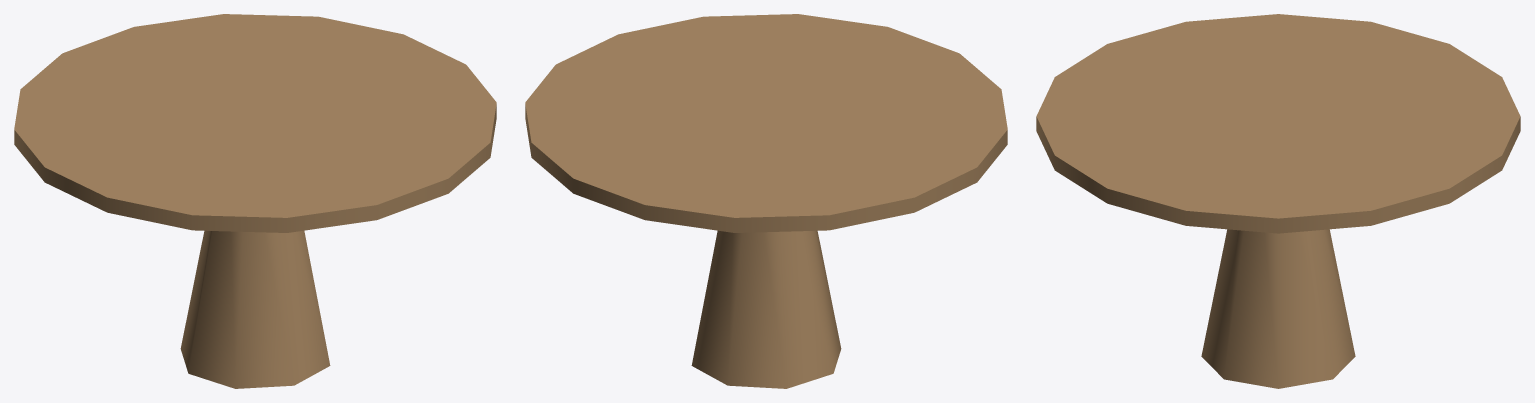
Rendered from table.glb.
The picture shows the model from 3 angles, left to right: view 1: azimuth 30°, elevation 25°; view 2: azimuth 150°, elevation 25°; view 3: azimuth 270°, elevation 25°; orthographic projection.
Parts seen in each view (by area): view 1: Table; view 2: Table; view 3: Table.
Boxes of the visible parts, bbox=[...] form: Table: bbox=[14, 14, 496, 388]; Table: bbox=[525, 14, 1007, 388]; Table: bbox=[1036, 14, 1520, 388].
Size of the model in its own units: 2 by 1.09 by 2.
